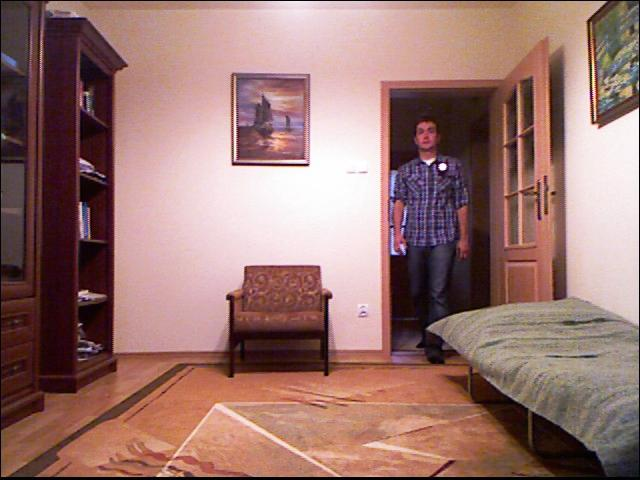walking: (387, 110, 477, 379)
